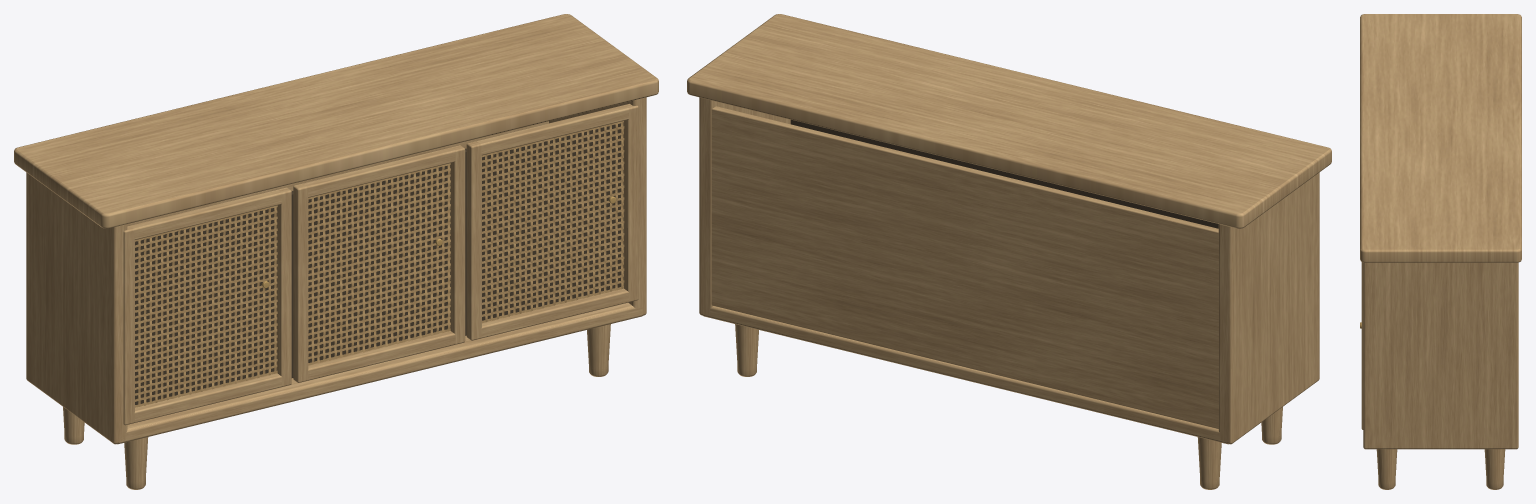
File: home_console.glb
The picture shows the model from 3 angles, left to right: view 1: azimuth 30°, elevation 25°; view 2: azimuth 150°, elevation 25°; view 3: azimuth 270°, elevation 25°; orthographic projection. The views are drawn at different scales.
Parts seen in each view (by area): view 1: Oak_detail_group, Cane_detail_group, Cavity_detail_group; view 2: Oak_detail_group, Cavity_detail_group; view 3: Oak_detail_group.
Part boxes in pixels (x1,y1,x2,y2): Oak_detail_group: (14,14,658,489); Cane_detail_group: (135,121,624,407); Cavity_detail_group: (135,123,621,404); Oak_detail_group: (687,14,1331,489); Cavity_detail_group: (790,119,1218,228); Oak_detail_group: (1360,14,1521,489).
Bounding box in the file's own units: 1.77 × 0.891 × 0.51.
Materials: 4 (2 with a texture image).
